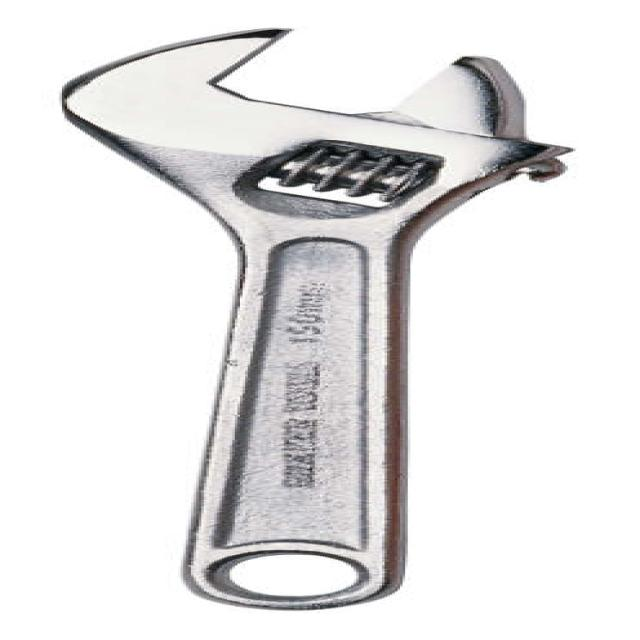wrench: (30, 20, 592, 625)
